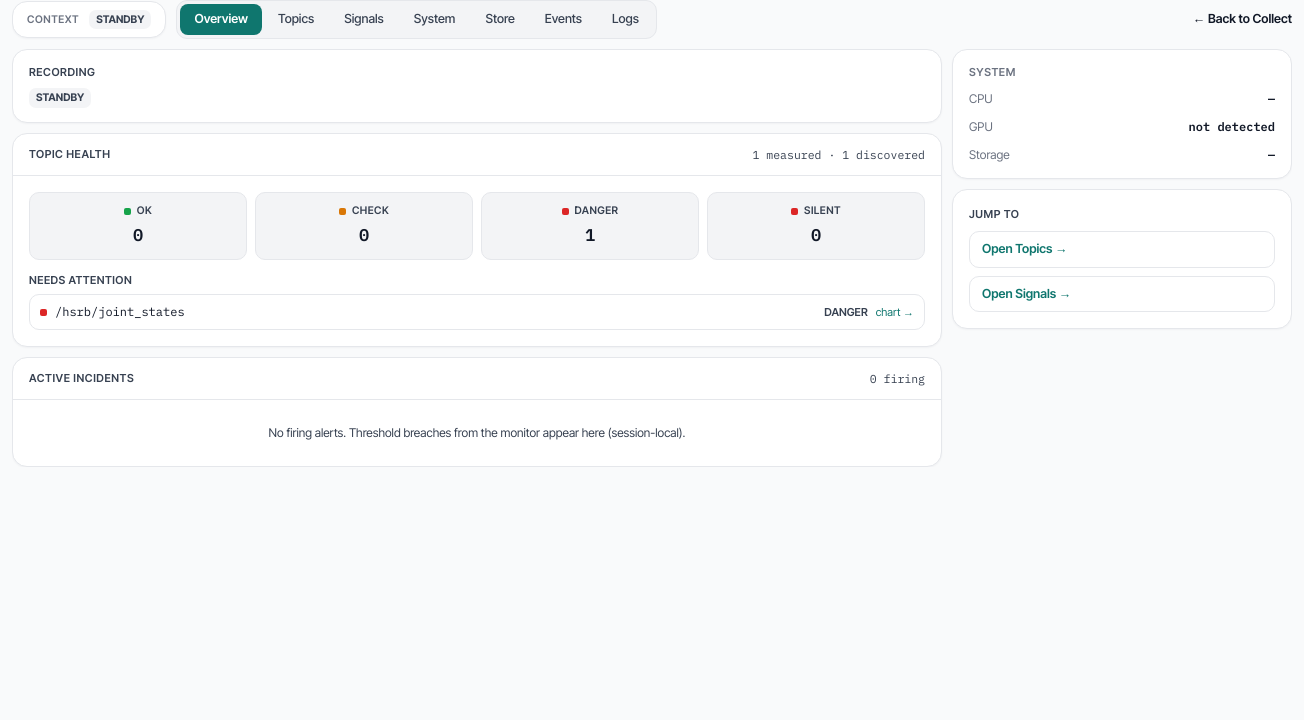
Test: Overview → "chart →" on a danger topic opens Topics with that topic charted
Click the button with test id "attention-/hsrb/joint_states".
click(120, 312)  # box 29,294 -> 925,330
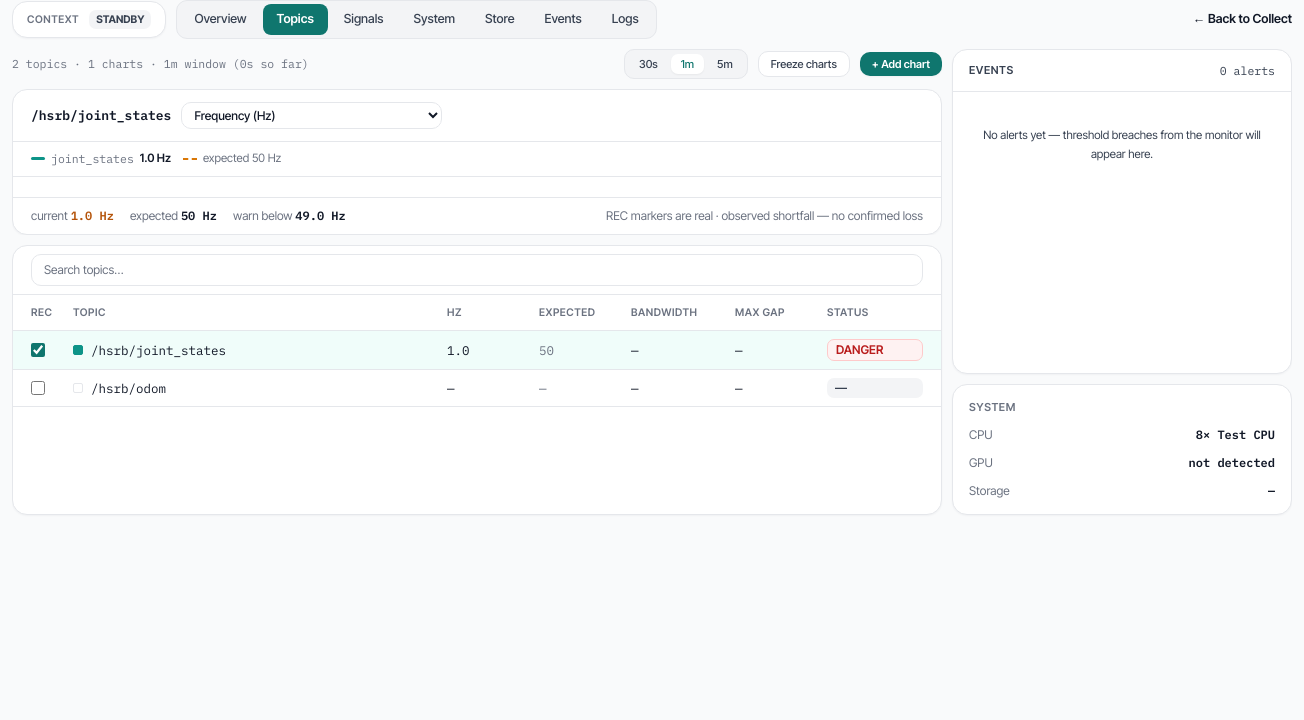
Now the element with test id "freq-legend-/hsrb/joint_states" is shown, box 31,150 -> 171,168
